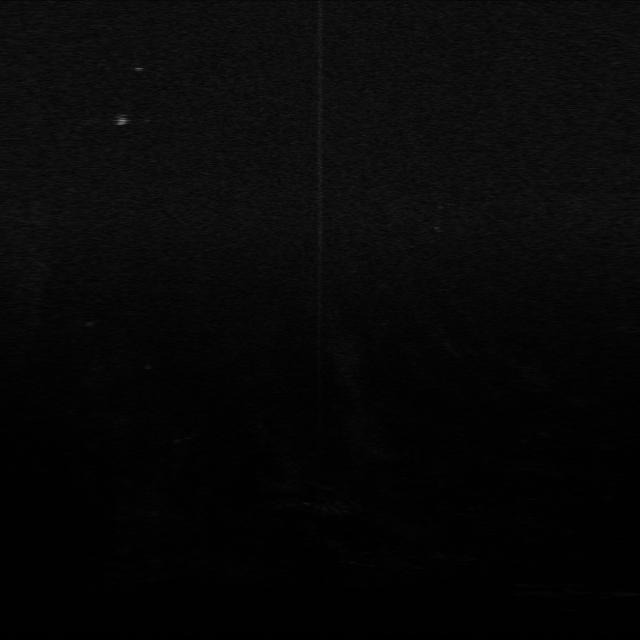rov: (107, 110, 137, 130)
